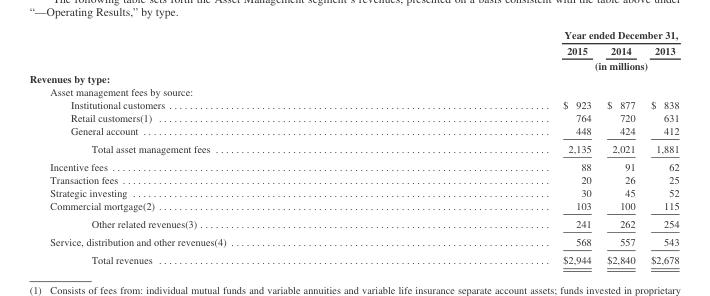table: (28, 28, 678, 265)
table column: (28, 28, 393, 265), (393, 28, 598, 265), (598, 28, 642, 265), (642, 28, 678, 265)
table column header: (28, 28, 678, 71)
table projected row header: (28, 71, 678, 84), (28, 84, 678, 97)
table row: (28, 139, 678, 157), (28, 214, 678, 232), (28, 232, 678, 250), (28, 123, 678, 139), (28, 198, 678, 214), (28, 42, 678, 57), (28, 157, 678, 172), (28, 250, 678, 265), (28, 28, 678, 42), (28, 57, 678, 71), (28, 71, 678, 84), (28, 84, 678, 97), (28, 97, 678, 110), (28, 110, 678, 123), (28, 172, 678, 185), (28, 185, 678, 198)
table spanning cell: (393, 28, 678, 42), (393, 57, 678, 71)
